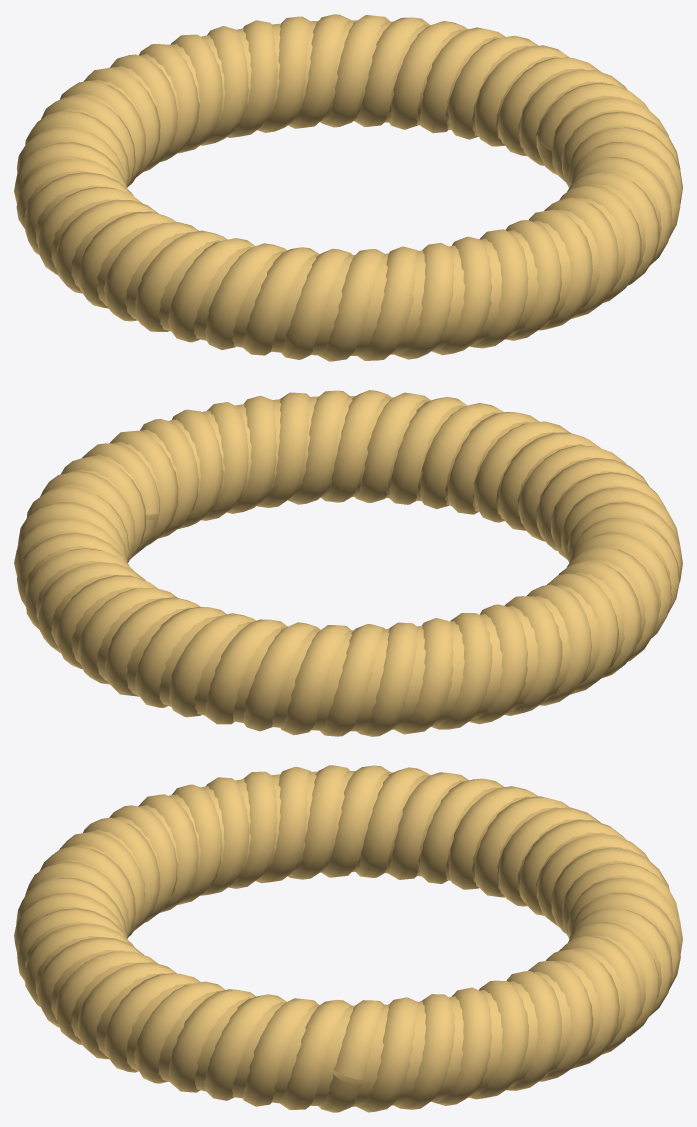
The model's file is spacer-11-gold.glb.
The picture shows the model from 3 angles, top to bottom: view 1: azimuth 30°, elevation 25°; view 2: azimuth 150°, elevation 25°; view 3: azimuth 270°, elevation 25°; orthographic projection.
Parts seen in each view (by area): view 1: Wire detail.044, Wire detail.045, Spacer with through bore.018; view 2: Wire detail.045, Wire detail.044, Spacer with through bore.018; view 3: Wire detail.045, Wire detail.044, Spacer with through bore.018.
Boxes of the visible parts, x1,y1,x2,y2 form: Wire detail.044: [14, 14, 682, 361]; Wire detail.045: [16, 15, 680, 360]; Spacer with through bore.018: [22, 20, 674, 355]; Wire detail.045: [17, 390, 679, 736]; Wire detail.044: [14, 390, 682, 736]; Spacer with through bore.018: [22, 396, 673, 731]; Wire detail.045: [16, 765, 680, 1112]; Wire detail.044: [14, 765, 682, 1112]; Spacer with through bore.018: [22, 771, 671, 1106].
Size of the model in its own units: 0.00433 by 0.00074 by 0.00433.
